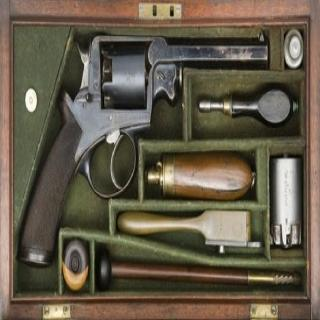gun: (19, 22, 270, 263)
